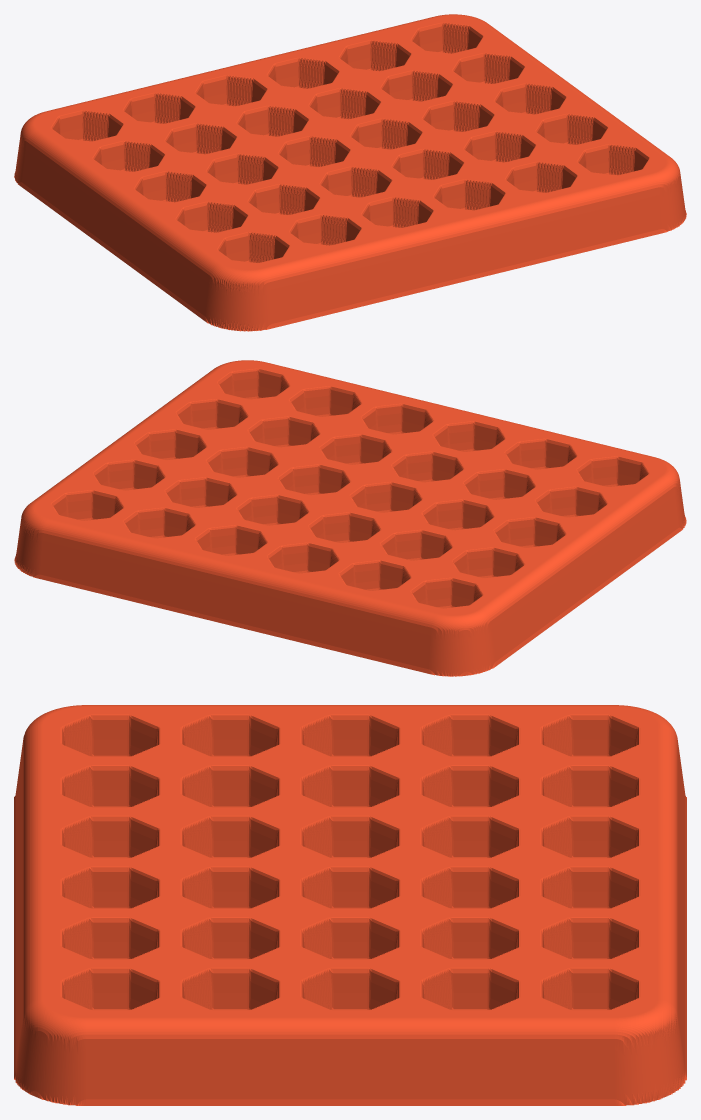
File: mold.glb
3 views of the same model, one above another, from view 1: azimuth 30°, elevation 25°; view 2: azimuth 150°, elevation 25°; view 3: azimuth 270°, elevation 25° (orthographic). The views are drawn at different scales.
Visible parts, largest first — view 1: geometry_0; view 2: geometry_0; view 3: geometry_0.
Part boxes in pixels (x1=…): geometry_0: x1=14, y1=14, x2=686, y2=331; geometry_0: x1=14, y1=360, x2=686, y2=676; geometry_0: x1=14, y1=705, x2=686, y2=1105.
Bounding box in the file's own units: 0.0992 × 0.0105 × 0.0842.
